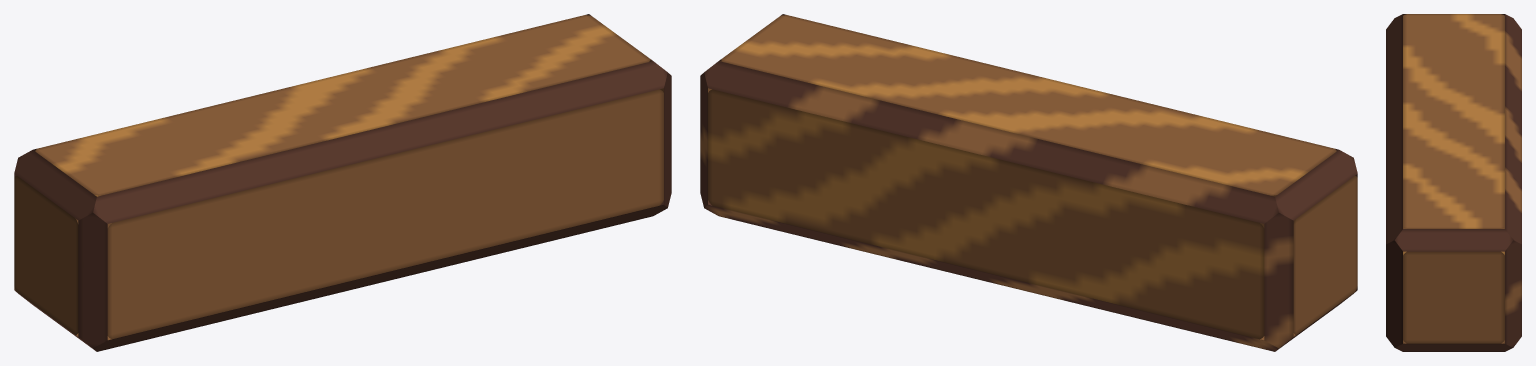
Rendered from Beam.fbx.
3 renders of one model, left to right at view 1: azimuth 30°, elevation 25°; view 2: azimuth 150°, elevation 25°; view 3: azimuth 270°, elevation 25°, orthographic. The views are drawn at different scales.
Visible parts, largest first — view 1: Beam; view 2: Beam; view 3: Beam.
Boxes of the visible parts, left/top/right/bottom form: Beam: left=14, top=14, right=671, bottom=351; Beam: left=700, top=14, right=1357, bottom=351; Beam: left=1386, top=14, right=1521, bottom=351.
Bounding box in the file's own units: 400 × 100 × 100.
1 material, 1 textured.
